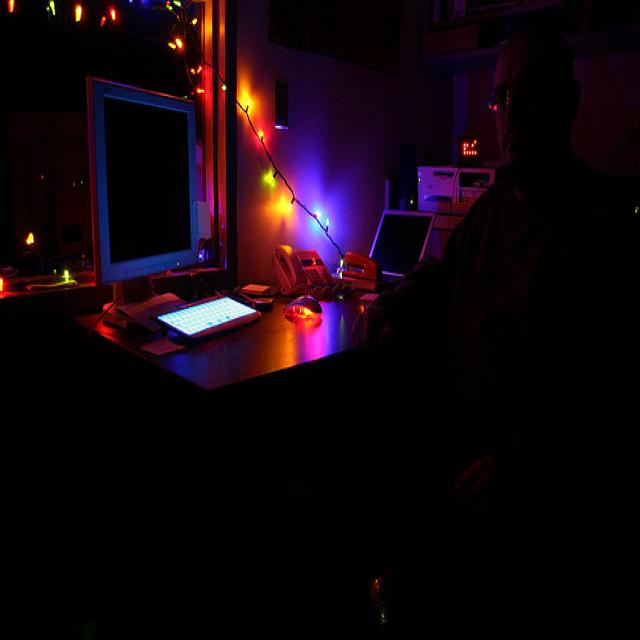People: (371, 25, 605, 589)
Table: (51, 273, 394, 589)
